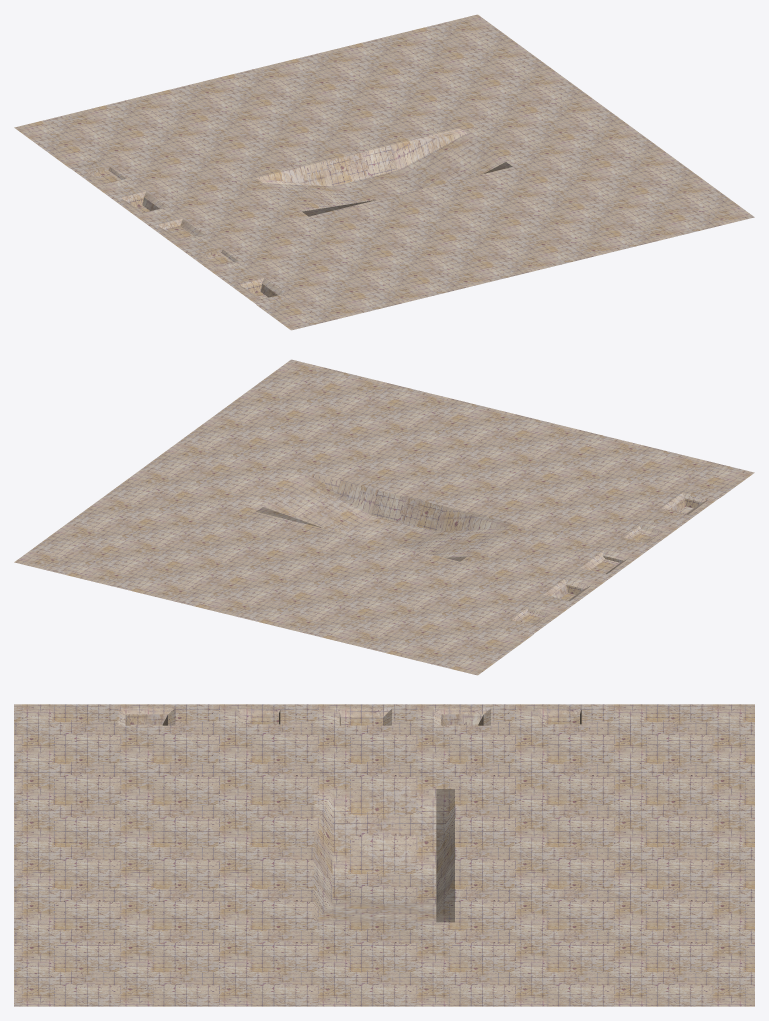
The model's file is SM_Toilets_00_Floor_00.fbx.
3 views of the same model, one above another, from view 1: azimuth 30°, elevation 25°; view 2: azimuth 150°, elevation 25°; view 3: azimuth 270°, elevation 25° (orthographic). The views are drawn at different scales.
Parts seen in each view (by area): view 1: SM_Toilets_00_Floor_00; view 2: SM_Toilets_00_Floor_00; view 3: SM_Toilets_00_Floor_00.
Boxes of the visible parts, <box> form: SM_Toilets_00_Floor_00: <box>14,14,754,330</box>; SM_Toilets_00_Floor_00: <box>14,359,754,675</box>; SM_Toilets_00_Floor_00: <box>14,704,754,1006</box>.
Bounding box in the file's own units: 3573 × 152 × 3700.
